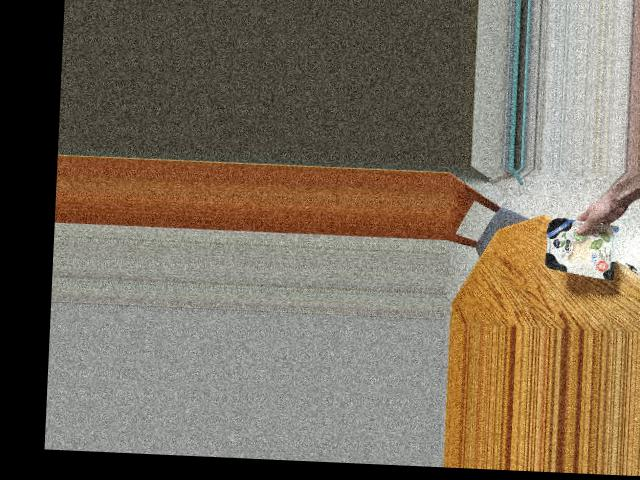cheese: (535, 213, 632, 271)
